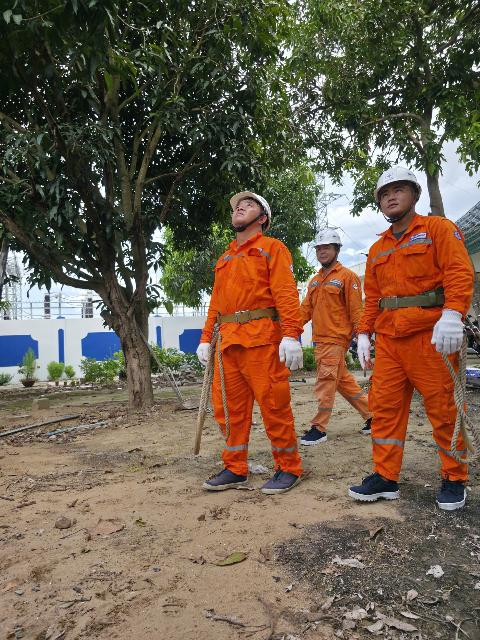gloves: (432, 306, 473, 354), (275, 338, 311, 374), (182, 336, 219, 368), (351, 334, 378, 369)
harness: (368, 288, 455, 311), (208, 305, 293, 324)
helmet: (220, 191, 279, 230), (366, 163, 428, 200), (301, 221, 350, 255)
shoes: (335, 462, 410, 507), (255, 460, 309, 496), (197, 460, 250, 490), (430, 470, 467, 511), (357, 414, 390, 435), (299, 424, 329, 445)
